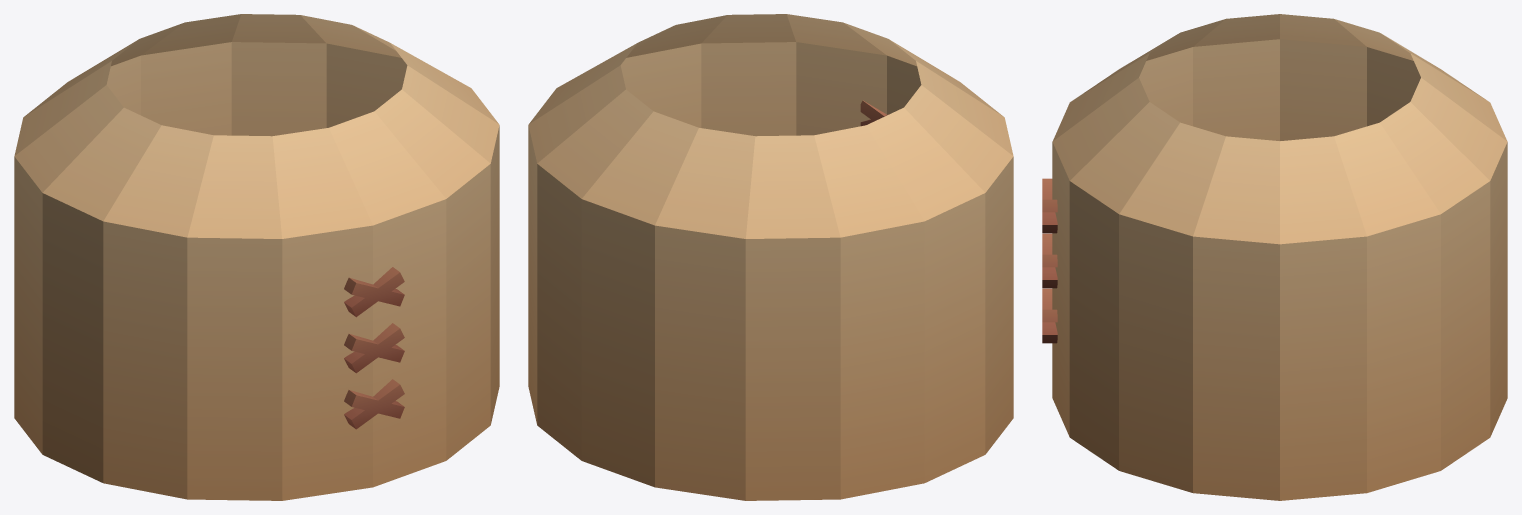
Rendered from leather_tunic.glb.
The picture shows the model from 3 angles, left to right: view 1: azimuth 30°, elevation 25°; view 2: azimuth 150°, elevation 25°; view 3: azimuth 270°, elevation 25°; orthographic projection. The views are drawn at different scales.
Visible parts, largest first — view 1: leather_tunic; view 2: leather_tunic; view 3: leather_tunic.
Boxes of the visible parts, x1,y1,x2,y2 form: leather_tunic: [14, 14, 499, 500]; leather_tunic: [528, 14, 1013, 500]; leather_tunic: [1042, 14, 1507, 500].
Size of the model in its own units: 0.96 by 0.7 by 0.92.
Materials: 1 (1 with a texture image).
